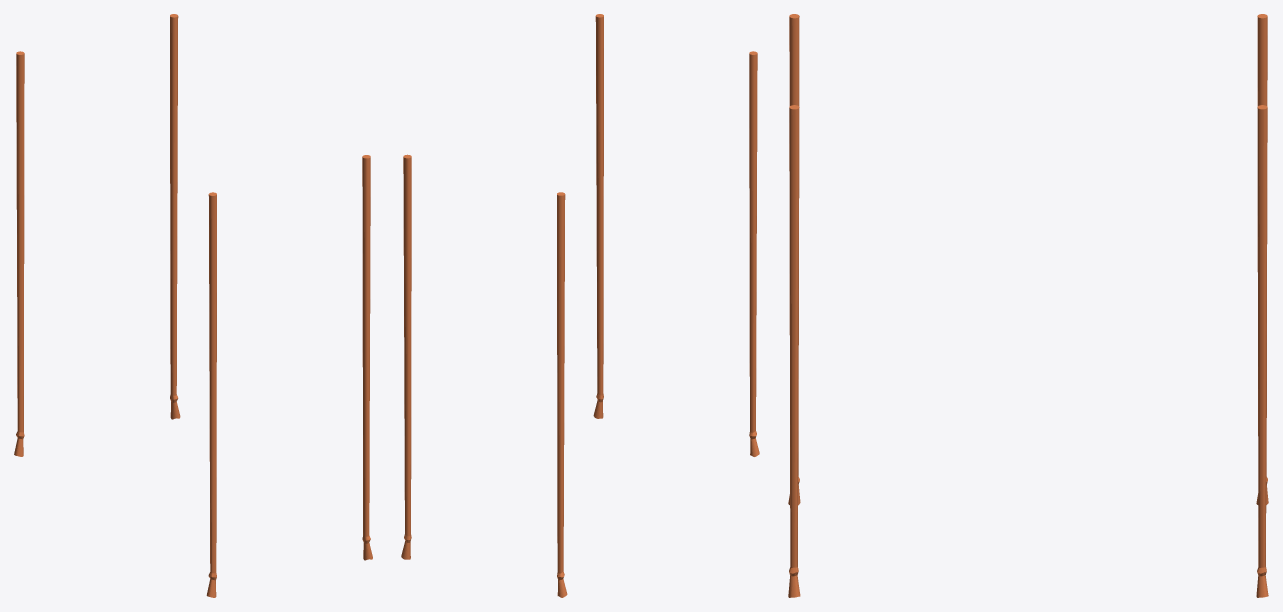
Rendered from 230321V1ModelTableRopeSeher.fbx.
The picture shows the model from 3 angles, left to right: view 1: azimuth 30°, elevation 25°; view 2: azimuth 150°, elevation 25°; view 3: azimuth 270°, elevation 25°; orthographic projection. The views are drawn at different scales.
Visible parts, largest first — view 1: Cylinder, Cylinder.003, Cylinder.002, Cylinder.001; view 2: Cylinder.001, Cylinder.002, Cylinder.003, Cylinder; view 3: Cylinder.002, Cylinder, Cylinder.003, Cylinder.001.
Part boxes in pixels (x1,y1,x2,y2): Cylinder: (362,155,372,560); Cylinder.003: (14,51,24,456); Cylinder.002: (170,14,180,419); Cylinder.001: (206,192,216,597); Cylinder.001: (749,51,759,456); Cylinder.002: (401,154,411,559); Cylinder.003: (557,192,567,597); Cylinder: (593,14,603,418); Cylinder.002: (1256,105,1268,597); Cylinder: (788,105,800,597); Cylinder.003: (1256,14,1268,504); Cylinder.001: (788,14,800,505).
Bounding box in the file's own units: 67.97 × 159 × 141.
